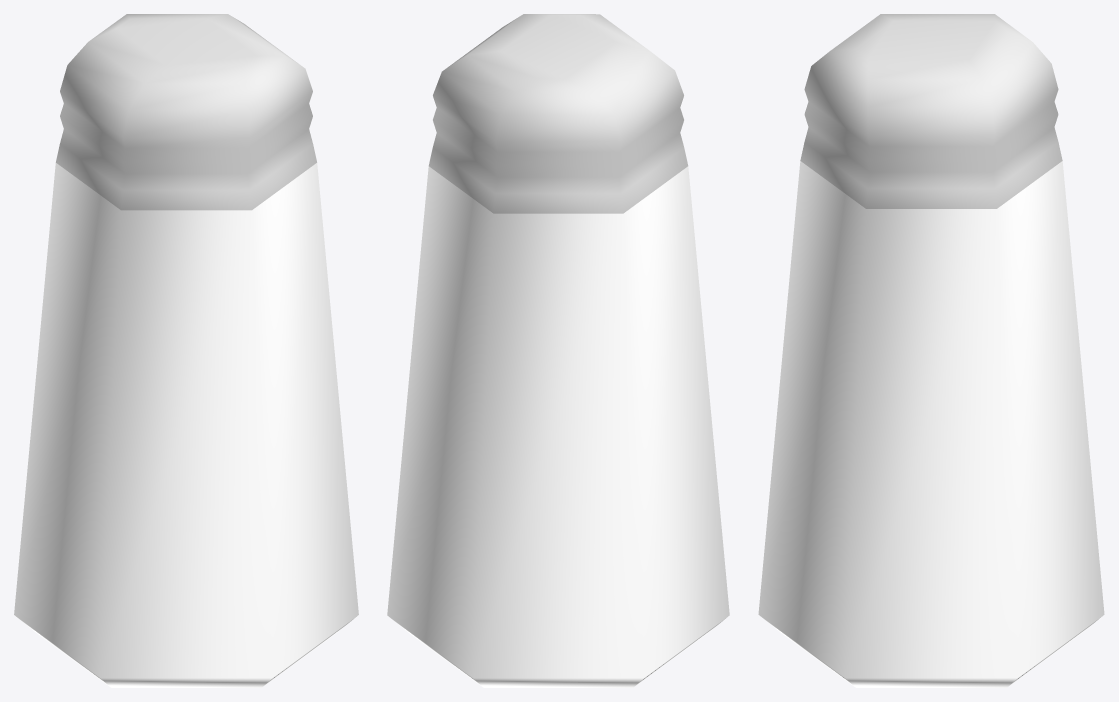
File: ShakerSalt.glb
3 renders of one model, left to right at view 1: azimuth 30°, elevation 25°; view 2: azimuth 150°, elevation 25°; view 3: azimuth 270°, elevation 25°, orthographic.
Visible parts, largest first — view 1: ShakerSalt; view 2: ShakerSalt; view 3: ShakerSalt.
Boxes of the visible parts, <box> form: ShakerSalt: <box>14,14,358,687</box>; ShakerSalt: <box>387,14,729,687</box>; ShakerSalt: <box>758,14,1104,687</box>.
Size of the model in its own units: 0.0666 by 0.1453 by 0.0769.
Materials: 2 (2 with a texture image).
